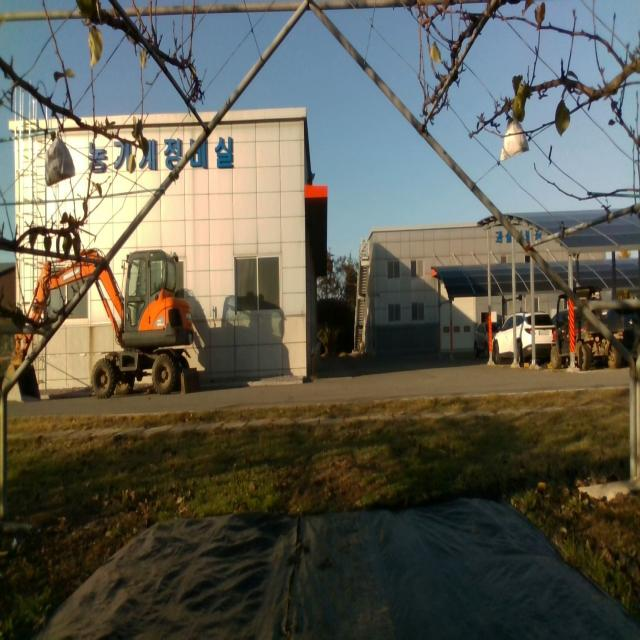pearbags: (44, 126, 76, 188), (500, 120, 530, 163)
